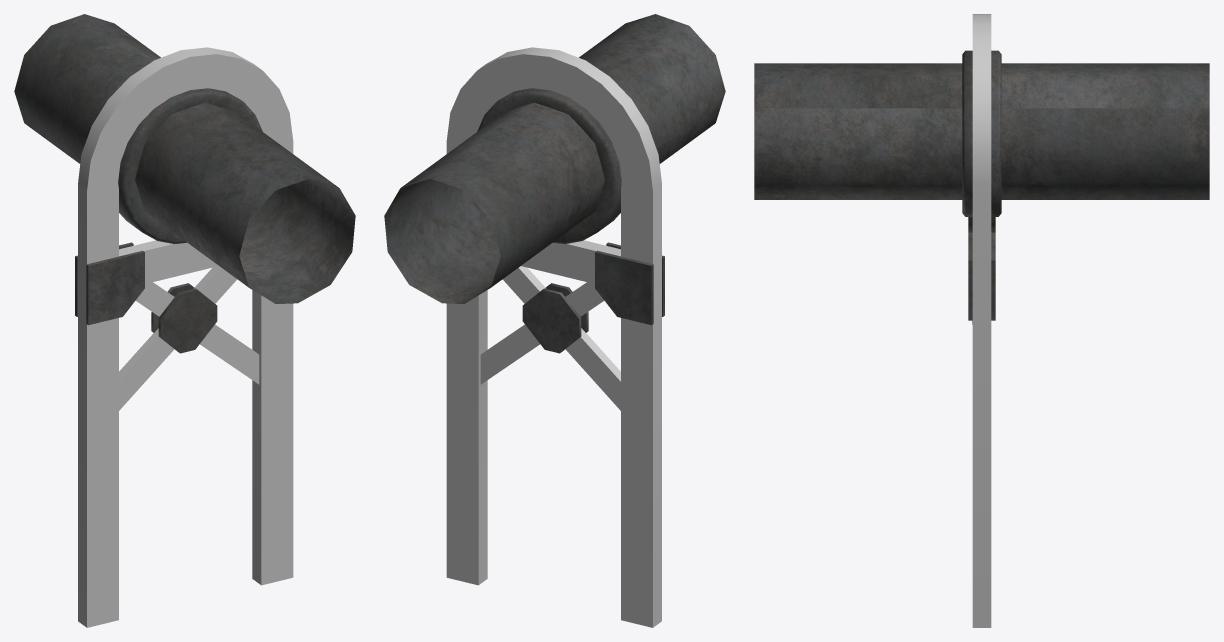
The model's file is GasPipe.fbx.
3 views of the same model, side by side, from view 1: azimuth 30°, elevation 25°; view 2: azimuth 150°, elevation 25°; view 3: azimuth 270°, elevation 25° (orthographic).
Visible parts, largest first — view 1: GasPipe; view 2: GasPipe; view 3: GasPipe.
Boxes of the visible parts, x1,y1,x2,y2 form: GasPipe: [14, 14, 355, 627]; GasPipe: [384, 14, 725, 627]; GasPipe: [754, 14, 1209, 627].
Bounding box in the file's own units: 1.07 × 2.68 × 2.
